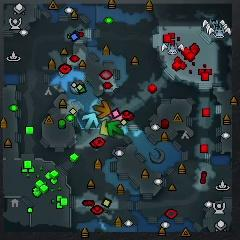x1: (110, 114, 125, 123)
x2: (100, 119, 108, 136)
x3: (82, 112, 98, 129)
x4: (108, 121, 124, 137)
x5: (93, 100, 110, 118)
